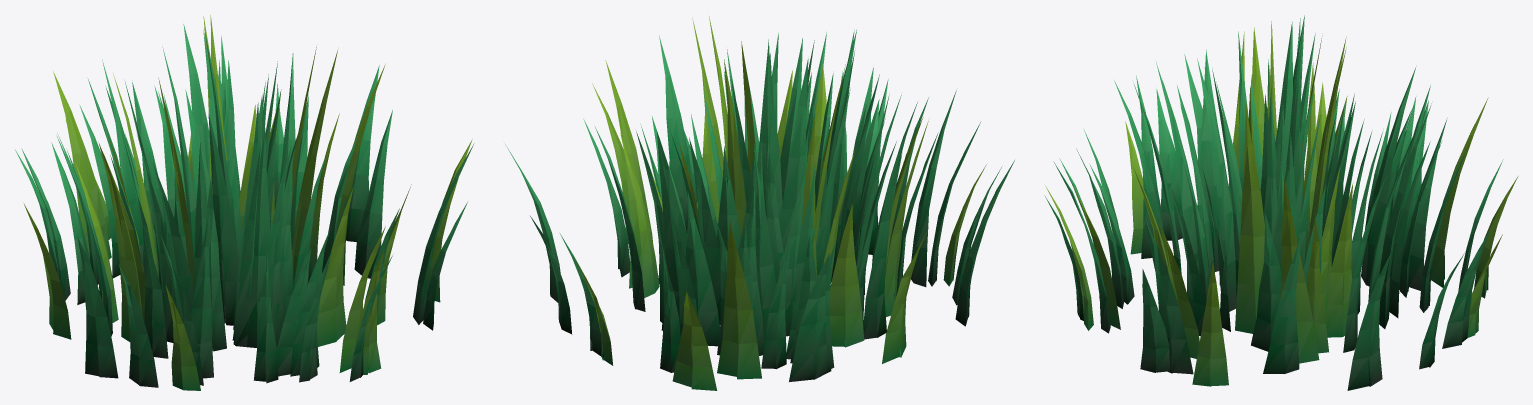
The model's file is vegetasi_grass_emerald_192967.glb.
The picture shows the model from 3 angles, left to right: view 1: azimuth 30°, elevation 25°; view 2: azimuth 150°, elevation 25°; view 3: azimuth 270°, elevation 25°; orthographic projection.
Parts seen in each view (by area): view 1: Rumpun_Rumput_Liar; view 2: Rumpun_Rumput_Liar; view 3: Rumpun_Rumput_Liar.
Part boxes in pixels (x1,y1,x2,y2): Rumpun_Rumput_Liar: [15, 15, 474, 390]; Rumpun_Rumput_Liar: [505, 16, 1014, 390]; Rumpun_Rumput_Liar: [1044, 15, 1518, 390].
Size of the model in its own units: 3.11 by 2.05 by 3.18.
